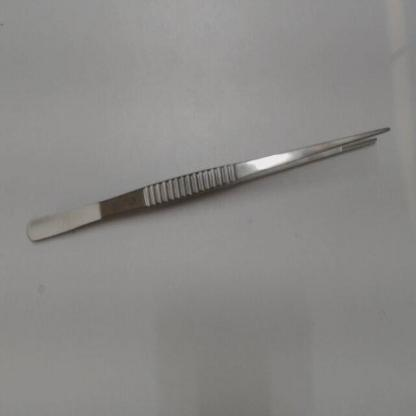DeBakey Dissector: (22, 116, 400, 244)
